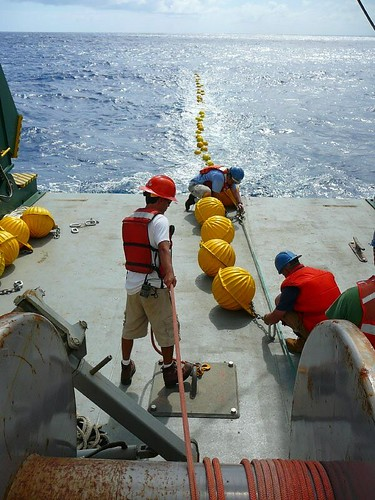person hardhat: (102, 173, 201, 396), (264, 246, 349, 363), (187, 161, 260, 228)
